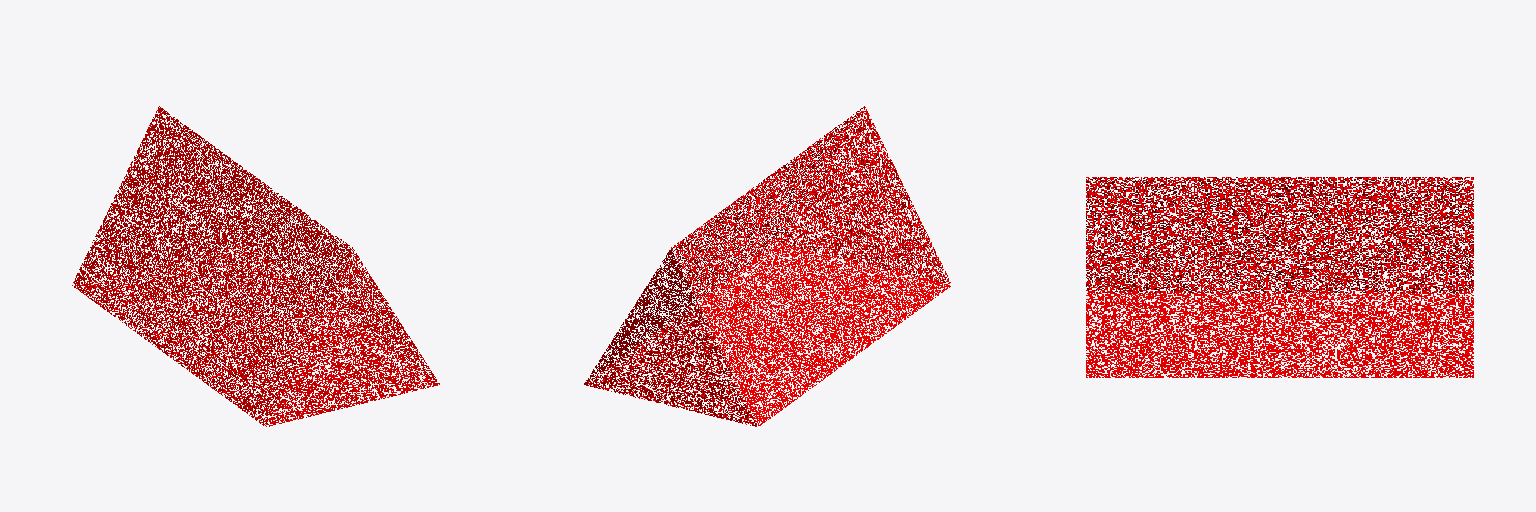
The picture shows the model from 3 angles: view 1: azimuth 30°, elevation 25°; view 2: azimuth 150°, elevation 25°; view 3: azimuth 270°, elevation 25°; orthographic projection.
Parts seen in each view (by area): view 1: FireUnlocked_Circle; view 2: FireUnlocked_Circle; view 3: FireUnlocked_Circle.
Boxes of the visible parts, x1,y1,x2,y2 form: FireUnlocked_Circle: [72, 106, 439, 426]; FireUnlocked_Circle: [584, 106, 950, 426]; FireUnlocked_Circle: [1086, 177, 1473, 377].
Bounding box in the file's own units: 0.2078 × 0.18 × 0.4.
Materials: 1 (1 with a texture image).